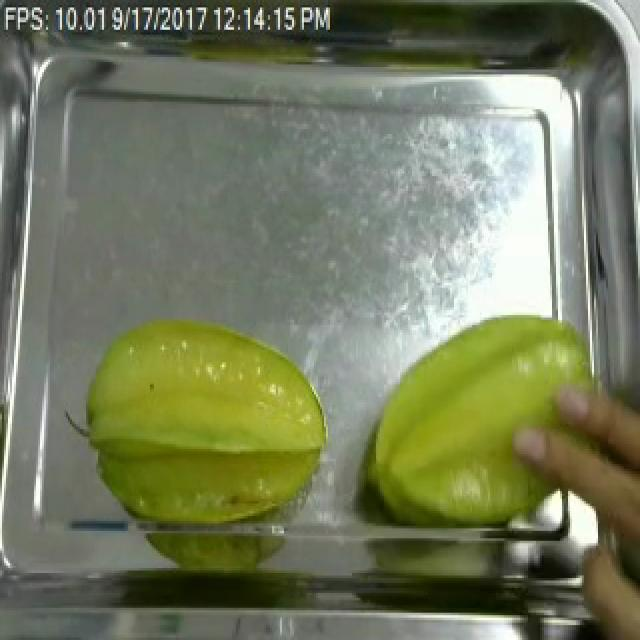fruit: (68, 302, 338, 540), (356, 305, 596, 538)
